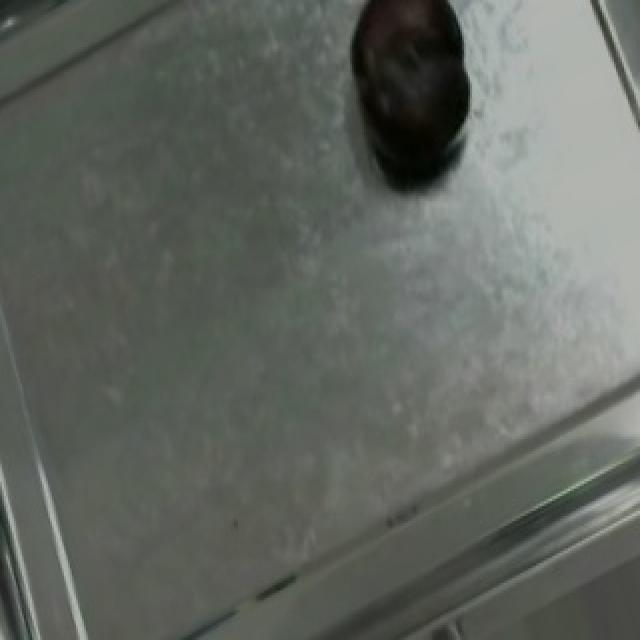Fruit: (330, 0, 494, 198)
